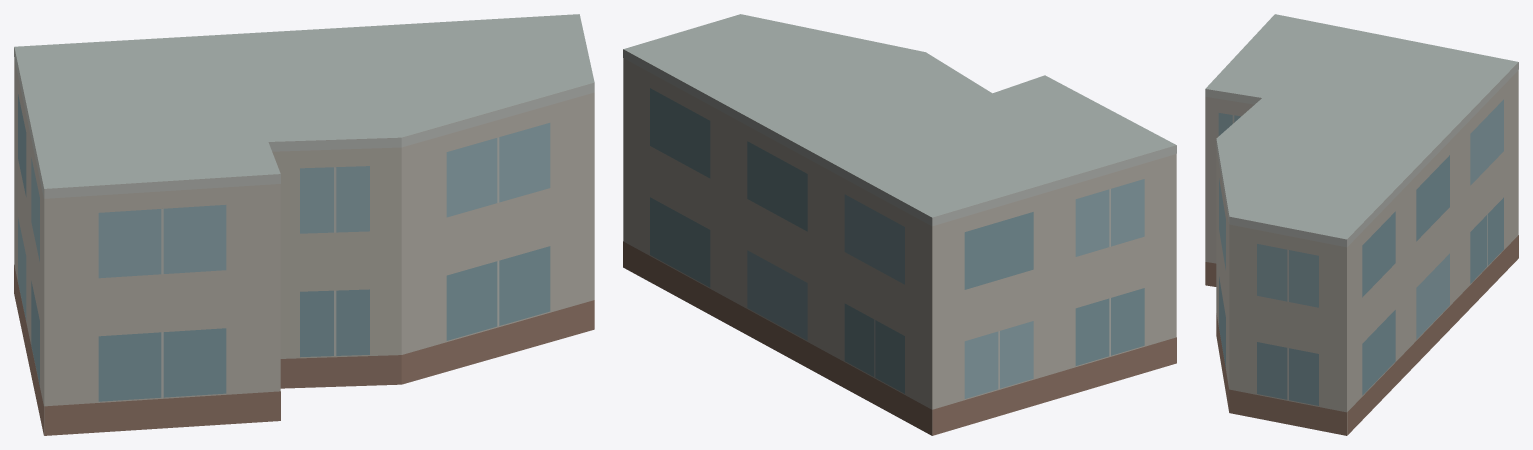
The model's file is survey-upis-32795409.glb.
The picture shows the model from 3 angles, left to right: view 1: azimuth 30°, elevation 25°; view 2: azimuth 150°, elevation 25°; view 3: azimuth 270°, elevation 25°; orthographic projection. The views are drawn at different scales.
Parts seen in each view (by area): view 1: survey-upis-32795409.tmp; view 2: survey-upis-32795409.tmp; view 3: survey-upis-32795409.tmp.
Boxes of the visible parts, x1=… form: survey-upis-32795409.tmp: x1=14, y1=14, x2=594, y2=435; survey-upis-32795409.tmp: x1=623, y1=14, x2=1176, y2=435; survey-upis-32795409.tmp: x1=1205, y1=14, x2=1518, y2=435.
Bounding box in the file's own units: 15.03 × 6.1 × 8.84.
